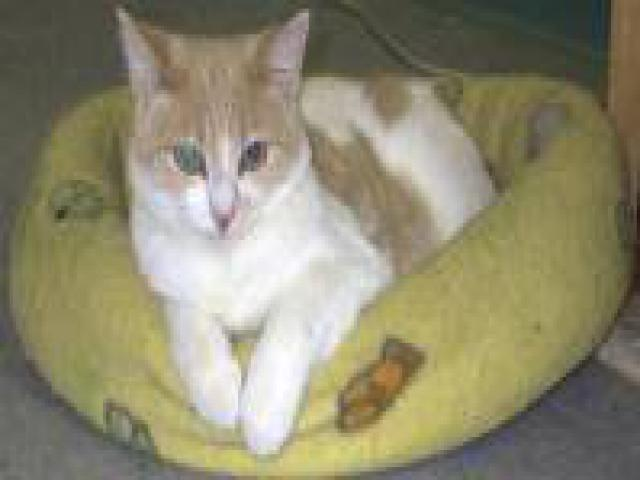cat: (91, 1, 481, 443)
